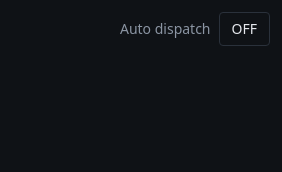
Test case: AutoDispatchControl › turns on only after the backend confirms, then shows the server state
The width and height of the screenshot is (282, 172).
Click the switch named "Auto dispatch": (244,29) [218,12,270,46]
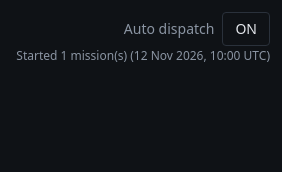
Check: the switch is checked, box [222,12,270,46]
